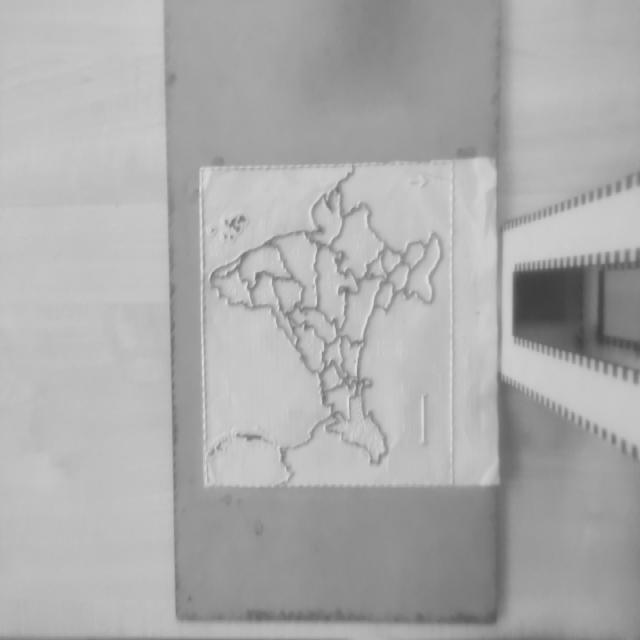map: (201, 160, 458, 488)
